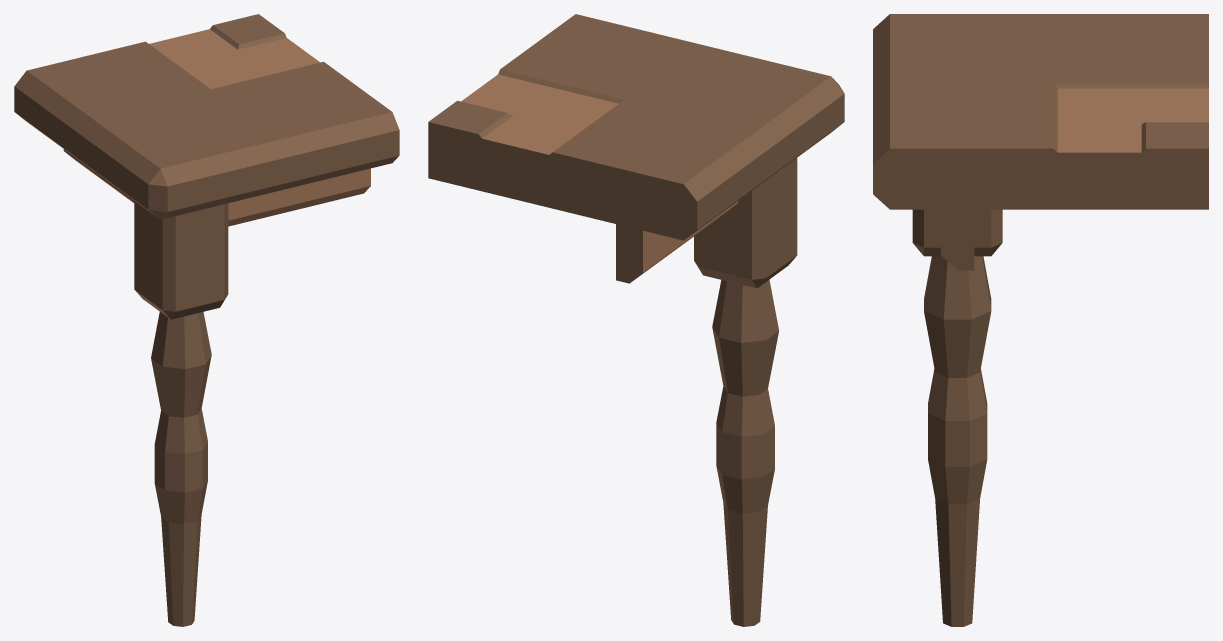
Rendered from Prop_Dining_Room_Table_Modular_Corner.obj.
3 views of the same model, side by side, from view 1: azimuth 30°, elevation 25°; view 2: azimuth 150°, elevation 25°; view 3: azimuth 270°, elevation 25° (orthographic). The views are drawn at different scales.
Visible parts, largest first — view 1: object1; view 2: object1; view 3: object1.
Boxes of the visible parts, x1,y1,x2,y2 form: object1: [14, 14, 399, 626]; object1: [428, 14, 844, 626]; object1: [873, 14, 1208, 626].
Size of the model in its own units: 0.5 by 0.95 by 0.5.
